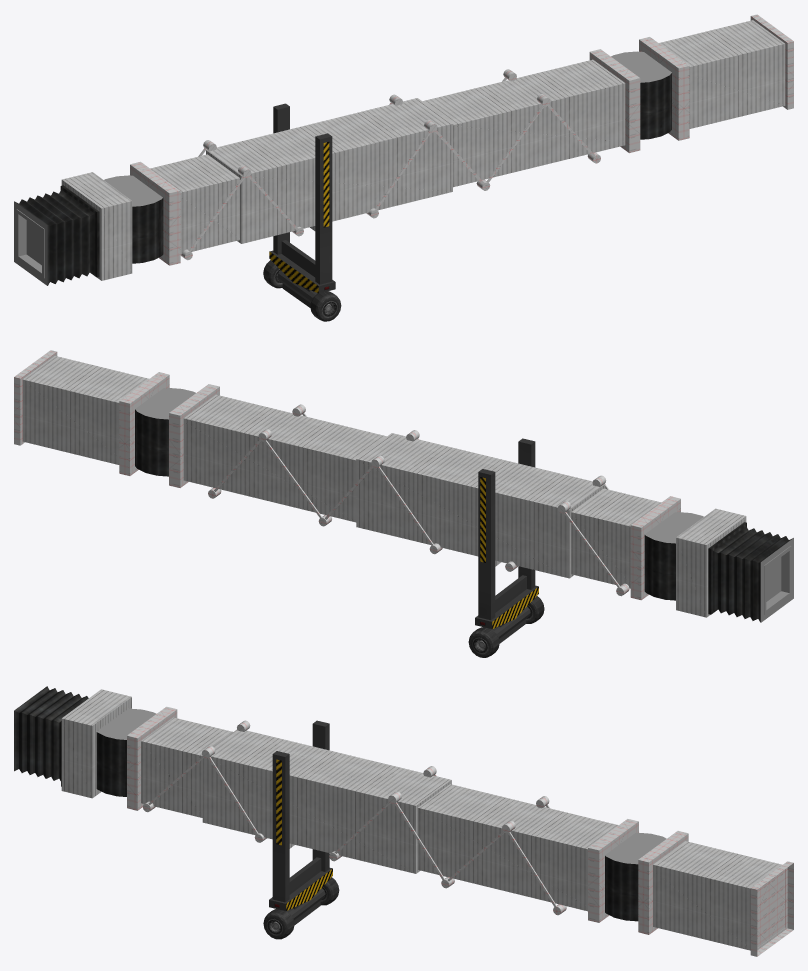
Rendered from air_hand_01_a.FBX.
3 views of the same model, one above another, from view 1: azimuth 30°, elevation 25°; view 2: azimuth 150°, elevation 25°; view 3: azimuth 330°, elevation 25° (orthographic).
Visible parts, largest first — view 1: Object001cs, air_hand_01_a, Object002scsc, Object003sc; view 2: Object001cs, air_hand_01_a, Object002scsc, Object003sc; view 3: Object001cs, air_hand_01_a, Object002scsc, Object003sc.
Boxes of the visible parts, box(x1,y1,x2,y2) form: Object001cs: box(104, 49, 640, 265); air_hand_01_a: box(611, 14, 793, 140); Object002scsc: box(14, 172, 132, 285); Object003sc: box(263, 103, 341, 321); Object001cs: box(169, 384, 703, 600); air_hand_01_a: box(14, 350, 195, 476); Object002scsc: box(676, 508, 793, 622); Object003sc: box(468, 438, 544, 657); Object001cs: box(96, 706, 638, 922); air_hand_01_a: box(605, 831, 793, 956); Object002scsc: box(14, 686, 131, 798); Object003sc: box(263, 720, 339, 939).
Size of the model in its own units: 117 by 27.28 by 14.84.
